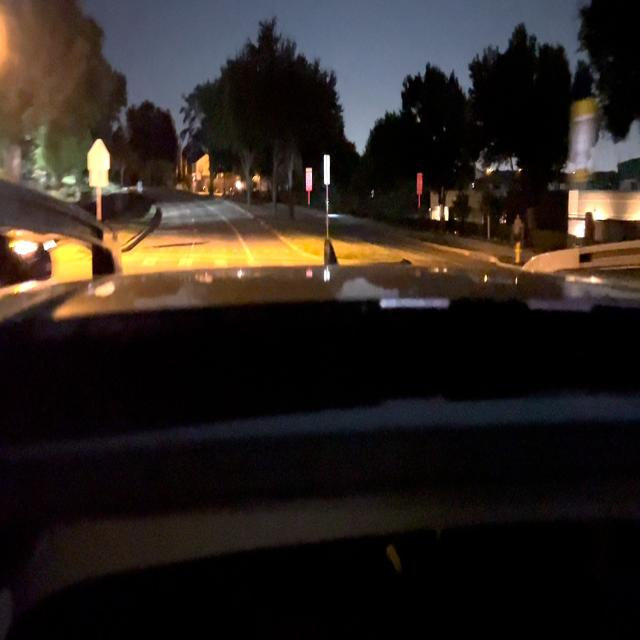back-of-sign: (85, 140, 112, 187)
